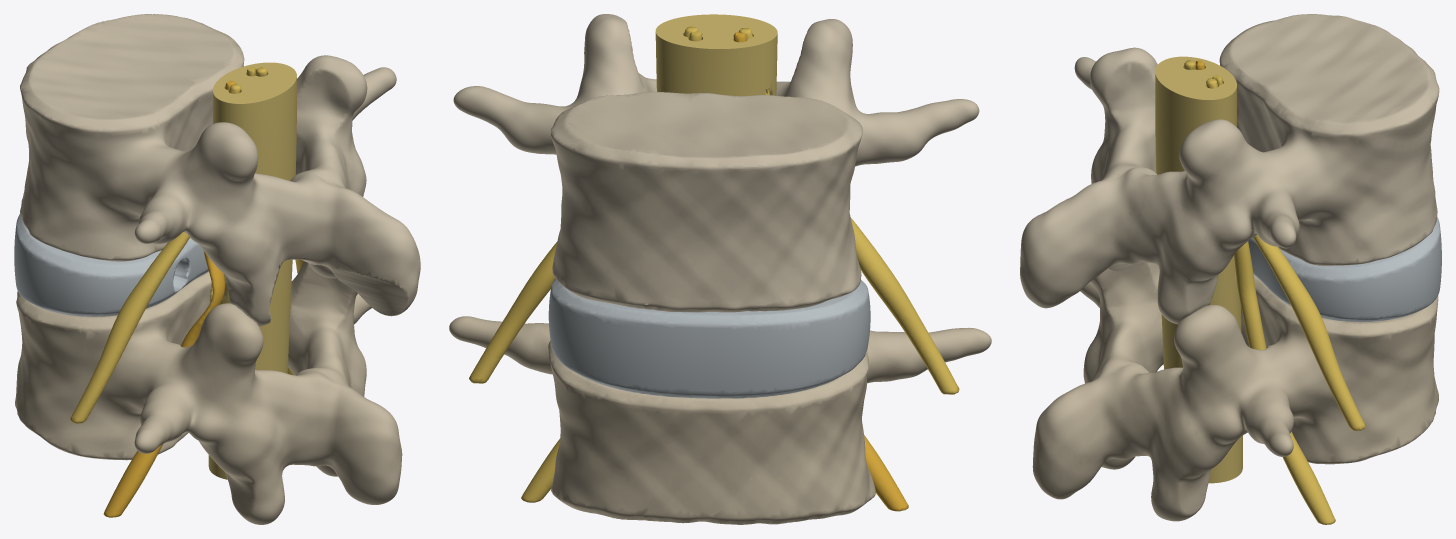
File: spine_discectomy.glb
3 renders of one model, left to right at view 1: azimuth 30°, elevation 25°; view 2: azimuth 150°, elevation 25°; view 3: azimuth 270°, elevation 25°, orthographic. The views are drawn at different scales.
Visible parts, largest first — view 1: l4_vertebra, l5_vertebra, thecal_sac, annulus_fibrosus, nerve_roots, l5_nerve_root_left; view 2: l4_vertebra, l5_vertebra, annulus_fibrosus, thecal_sac, nerve_roots, l5_nerve_root_left; view 3: l4_vertebra, l5_vertebra, annulus_fibrosus, thecal_sac, nerve_roots.
Part boxes in pixels (x1,y1,x2,y2): l4_vertebra: [20, 14, 420, 326]; l5_vertebra: [15, 261, 402, 524]; thecal_sac: [208, 62, 296, 479]; annulus_fibrosus: [14, 214, 208, 316]; nerve_roots: [70, 67, 303, 423]; l5_nerve_root_left: [103, 80, 236, 517]; l4_vertebra: [453, 14, 979, 312]; l5_vertebra: [449, 316, 991, 524]; annulus_fibrosus: [548, 278, 870, 398]; thecal_sac: [655, 14, 777, 96]; nerve_roots: [469, 26, 959, 502]; l5_nerve_root_left: [733, 32, 908, 511]; l4_vertebra: [1020, 14, 1439, 324]; l5_vertebra: [1032, 262, 1438, 521]; annulus_fibrosus: [1248, 216, 1441, 322]; thecal_sac: [1155, 56, 1242, 483]; nerve_roots: [1184, 60, 1365, 524].
Size of the model in its own units: 7.95 by 7.92 by 7.36.
